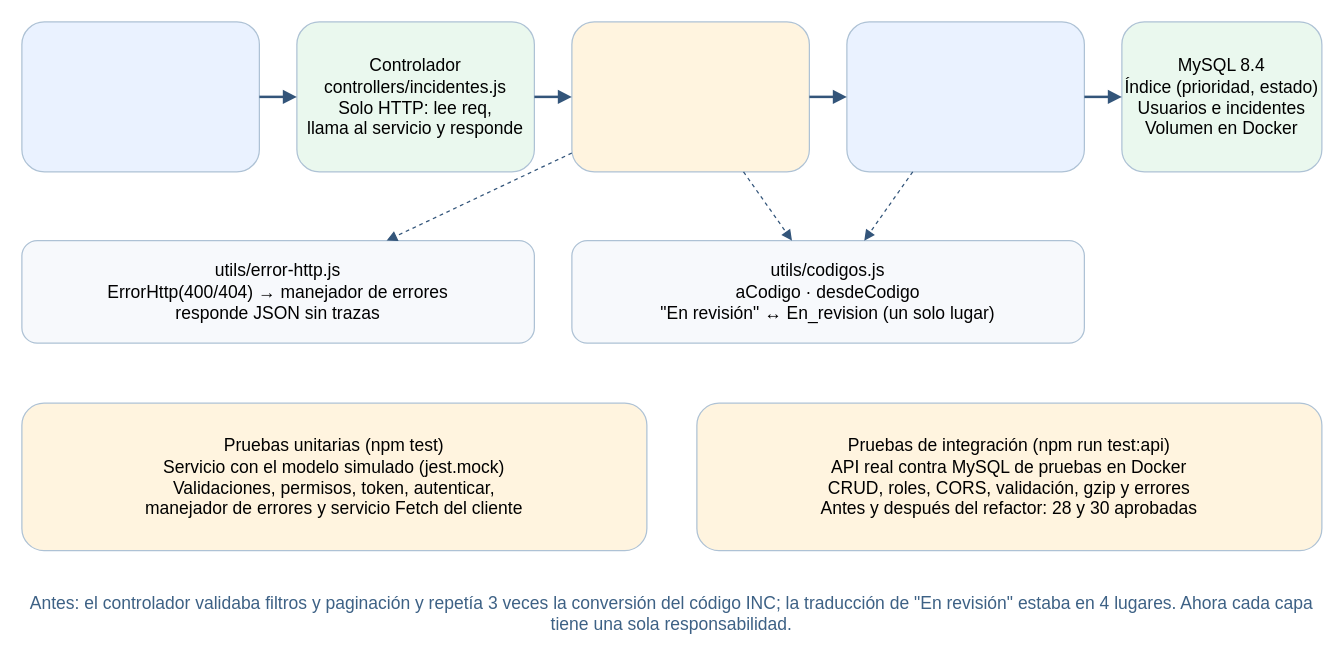
This 1344x669 diagram has some shape labels left out. The centre of each missing label's shape, as x and y in pixels:
Modelo models/incidentes.js Consultas Prisma y forma de la respuesta: (x=965, y=96)
Ruta routes/incidentes.js autenticar · permitir(rol) validarCuerpo(zod): (x=140, y=96)
Servicio services/incidentes.js Filtros, paginación, código INC, 400 y 404: (x=690, y=96)
